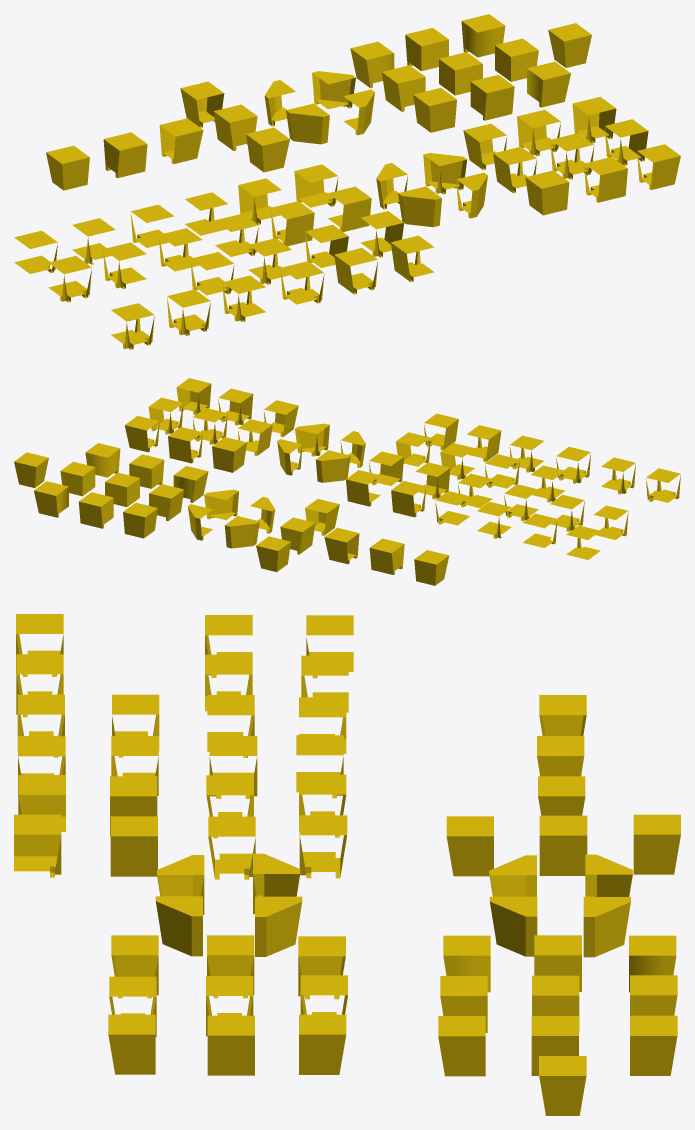
The model's file is Tile_Test.fbx.
The picture shows the model from 3 angles, top to bottom: view 1: azimuth 30°, elevation 25°; view 2: azimuth 150°, elevation 25°; view 3: azimuth 270°, elevation 25°; orthographic projection. The views are drawn at different scales.
Parts seen in each view (by area): view 1: Tile_Test_T8, Tile_Test_T15, Tile_Test_T7, Tile_Test_T9Cu, Tile_Test_T12, Tile_Test_T9, Tile_Test_T1Cd, Tile_Test_T13, Tile_Test_T11, Tile_Test_T2, Tile_Test_T0, Tile_Test_T9H (+43 smaller); view 2: Tile_Test_T2, Tile_Test_T15, Tile_Test_T3, Tile_Test_T12, Tile_Test_T1, Tile_Test_T3Cl, Tile_Test_T7Cr, Tile_Test_T13, Tile_Test_T10, Tile_Test_T5, Tile_Test_T3ClH, Tile_Test_T3H (+43 smaller); view 3: Tile_Test_T14, Tile_Test_T4Cdr, Tile_Test_T4Cd, Tile_Test_T6Cu, Tile_Test_T10, Tile_Test_T7, Tile_Test_T7Cr, Tile_Test_T1, Tile_Test_T1Cd, Tile_Test_T11, Tile_Test_T0, Tile_Test_T1H (+43 smaller).
Part boxes in pixels (x1=…): Tile_Test_T8: x1=470, y1=75, x2=514, y2=120; Tile_Test_T15: x1=103, y1=132, x2=147, y2=178; Tile_Test_T7: x1=527, y1=61, x2=570, y2=107; Tile_Test_T9Cu: x1=525, y1=170, x2=569, y2=215; Tile_Test_T12: x1=159, y1=118, x2=203, y2=164; Tile_Test_T9: x1=413, y1=88, x2=456, y2=132; Tile_Test_T1Cd: x1=572, y1=96, x2=616, y2=143; Tile_Test_T13: x1=46, y1=145, x2=89, y2=190; Tile_Test_T11: x1=246, y1=127, x2=289, y2=172; Tile_Test_T2: x1=405, y1=28, x2=448, y2=71; Tile_Test_T0: x1=548, y1=23, x2=591, y2=67; Tile_Test_T9H: x1=286, y1=103, x2=329, y2=144; Tile_Test_T2: x1=78, y1=492, x2=113, y2=528; Tile_Test_T15: x1=369, y1=538, x2=404, y2=574; Tile_Test_T3: x1=123, y1=502, x2=157, y2=538; Tile_Test_T12: x1=324, y1=527, x2=359, y2=564; Tile_Test_T1: x1=34, y1=481, x2=68, y2=517; Tile_Test_T3Cl: x1=212, y1=437, x2=246, y2=472; Tile_Test_T7Cr: x1=176, y1=378, x2=211, y2=415; Tile_Test_T13: x1=414, y1=550, x2=449, y2=585; Tile_Test_T10: x1=256, y1=536, x2=290, y2=571; Tile_Test_T5: x1=105, y1=472, x2=139, y2=506; Tile_Test_T3ClH: x1=315, y1=450, x2=350, y2=482; Tile_Test_T3H: x1=224, y1=516, x2=259, y2=548; Tile_Test_T14: x1=539, y1=815, x2=587, y2=875; Tile_Test_T4Cdr: x1=207, y1=1015, x2=254, y2=1075; Tile_Test_T4Cd: x1=110, y1=816, x2=157, y2=876; Tile_Test_T6Cu: x1=14, y1=814, x2=61, y2=877; Tile_Test_T10: x1=633, y1=814, x2=680, y2=874; Tile_Test_T7: x1=438, y1=1016, x2=485, y2=1076; Tile_Test_T7Cr: x1=108, y1=1014, x2=155, y2=1074; Tile_Test_T1: x1=630, y1=1015, x2=677, y2=1075; Tile_Test_T1Cd: x1=299, y1=1014, x2=346, y2=1074; Tile_Test_T11: x1=446, y1=816, x2=493, y2=876; Tile_Test_T0: x1=539, y1=1056, x2=586, y2=1115; Tile_Test_T1H: x1=583, y1=897, x2=630, y2=957.
Bounding box in the file's own units: 23.06 × 1 × 14.07.
